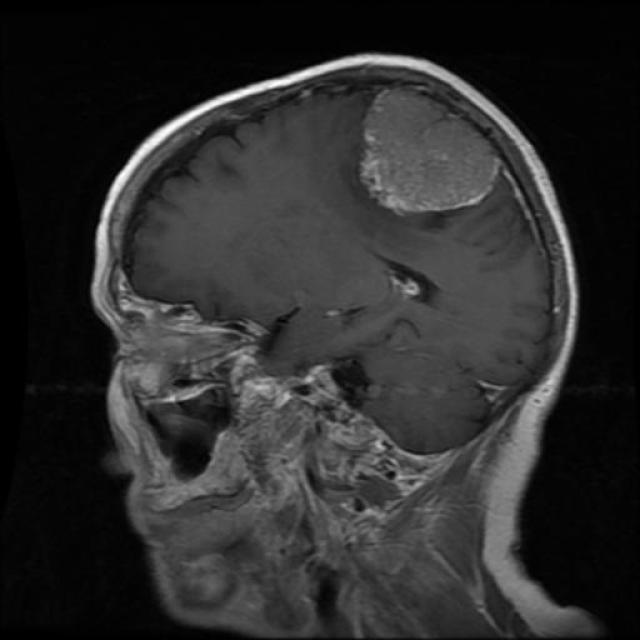meningioma: (361, 90, 500, 215)
